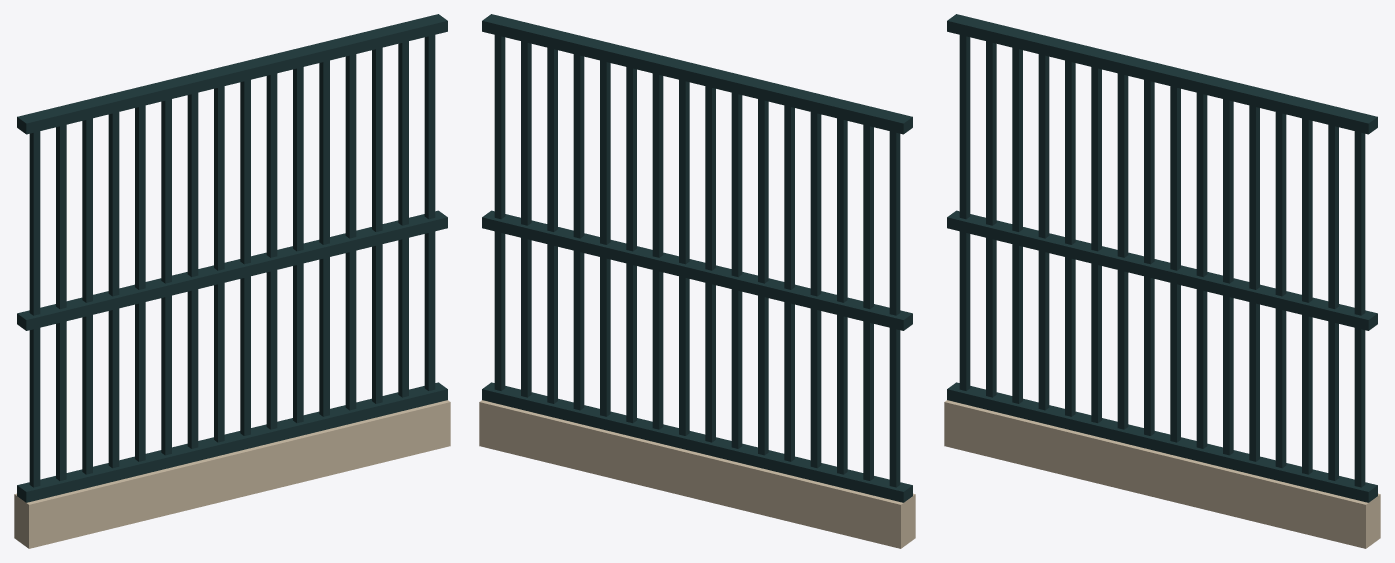
File: bars_panel_M.fbx
3 renders of one model, left to right at view 1: azimuth 30°, elevation 25°; view 2: azimuth 150°, elevation 25°; view 3: azimuth 330°, elevation 25°, orthographic.
Parts seen in each view (by area): view 1: bars_panel_M; view 2: bars_panel_M; view 3: bars_panel_M.
Part boxes in pixels (left/top/right/bottom): bars_panel_M: left=14, top=14, right=450, bottom=548; bars_panel_M: left=479, top=14, right=915, bottom=548; bars_panel_M: left=944, top=14, right=1380, bottom=548.
Bounding box in the file's own units: 2.5 × 2.4 × 0.15.
